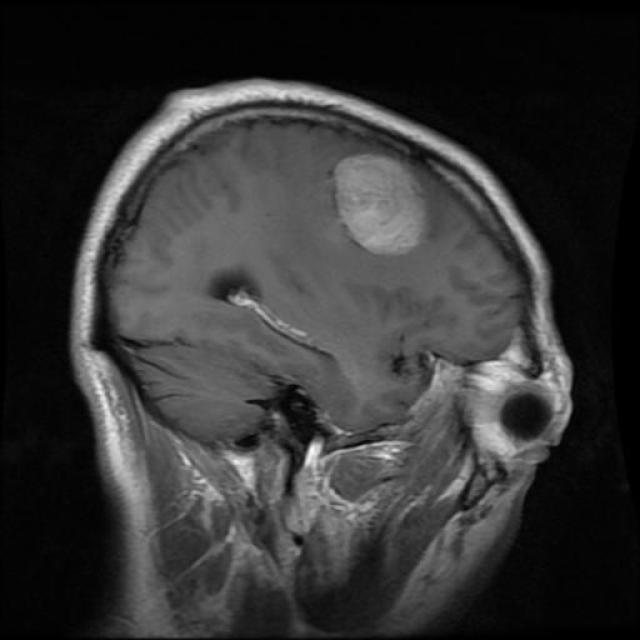meningioma: (332, 154, 432, 259)
